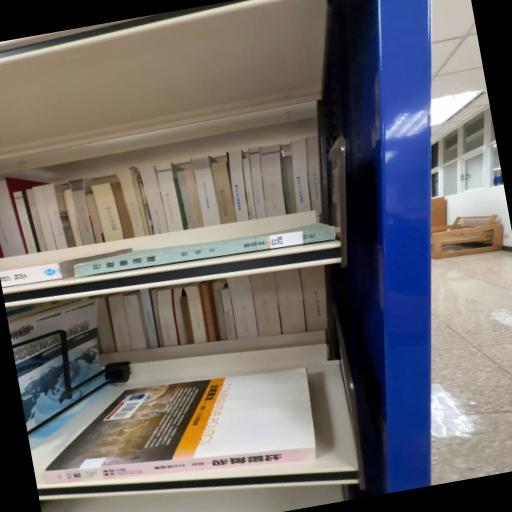flat: (44, 369, 316, 484), (75, 223, 336, 277)
